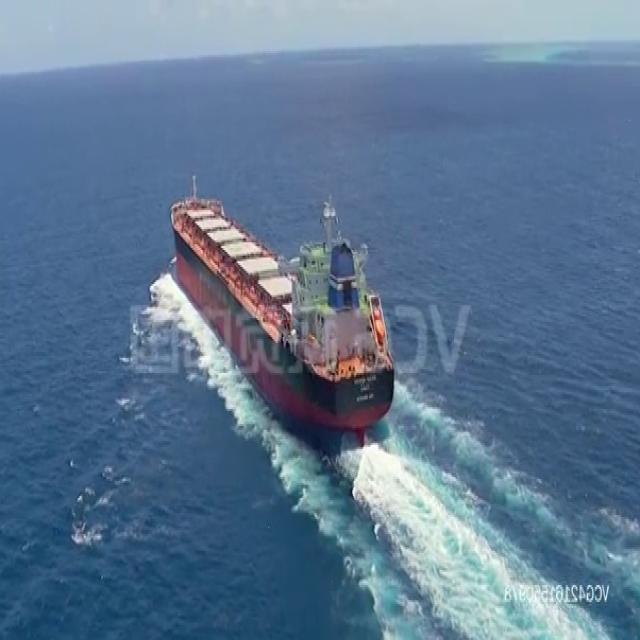cargoship: (167, 174, 405, 424)
